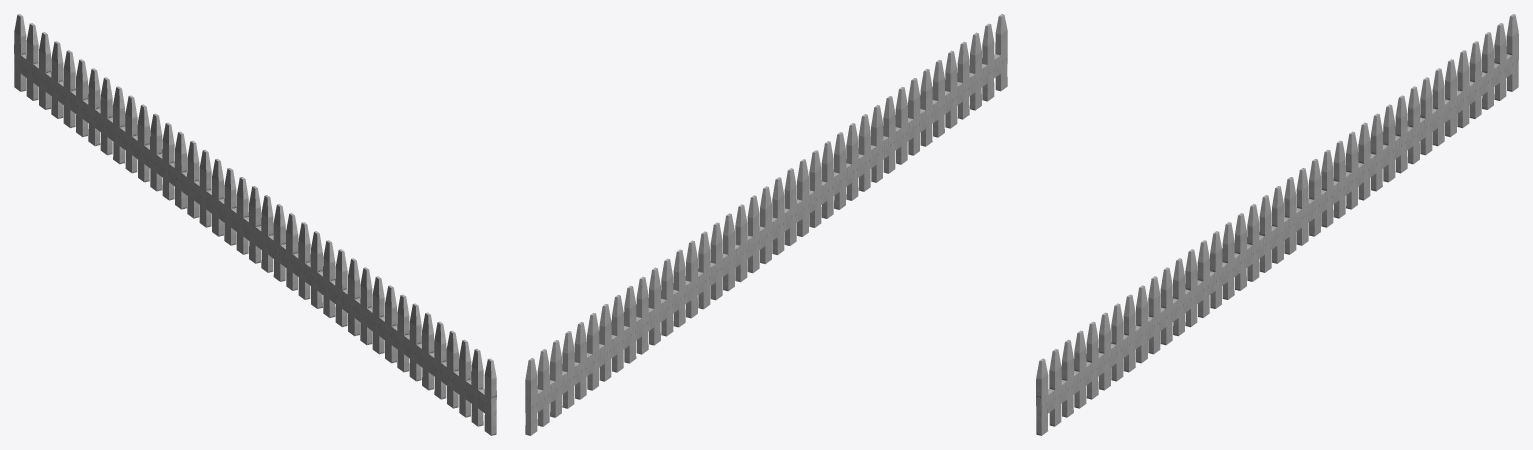
Rendered from Fence.obj.
3 renders of one model, left to right at view 1: azimuth 30°, elevation 25°; view 2: azimuth 150°, elevation 25°; view 3: azimuth 330°, elevation 25°, orthographic.
Visible parts, largest first — view 1: Cube.011; view 2: Cube.011; view 3: Cube.011.
Boxes of the visible parts, x1,y1,x2,y2 form: Cube.011: (14, 14, 496, 435); Cube.011: (525, 14, 1007, 435); Cube.011: (1036, 14, 1518, 435).
Size of the model in its own units: 0.1755 by 2.19 by 25.76.
